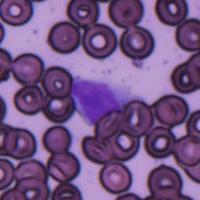M: (70, 74, 130, 125)
